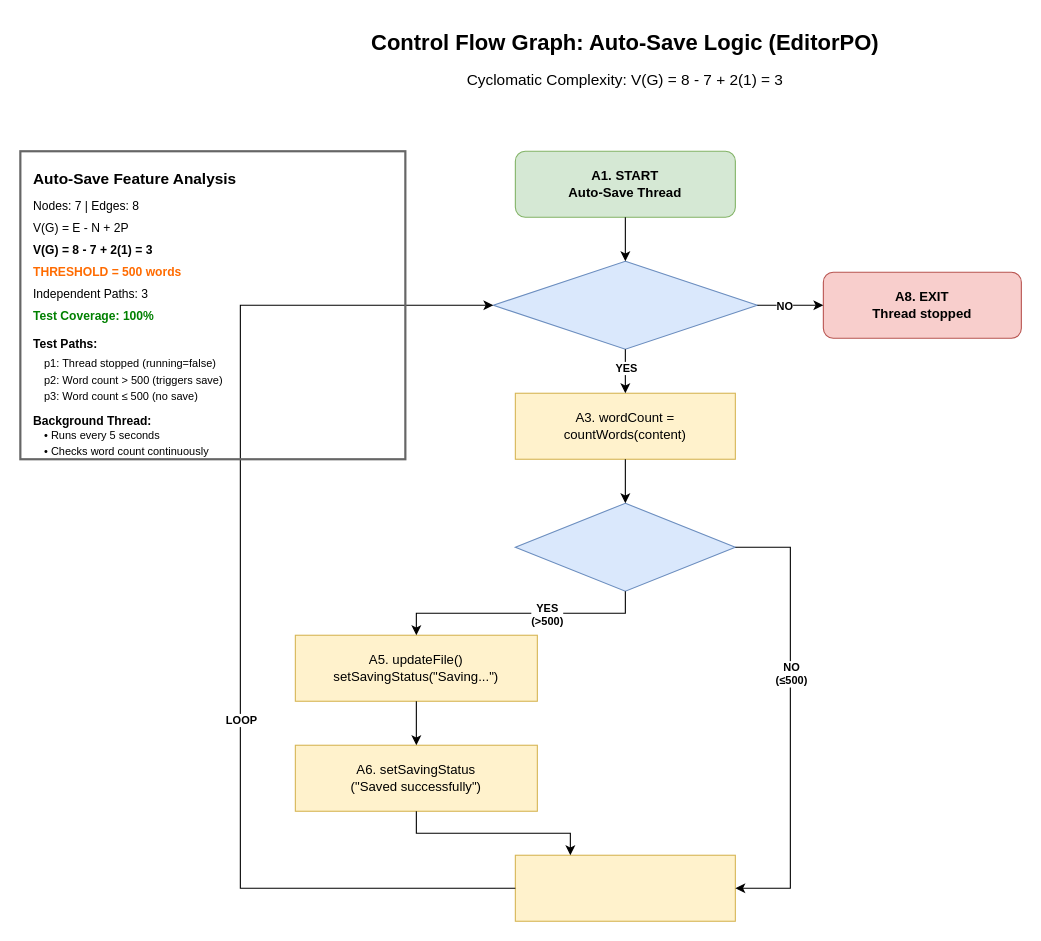
This 1041x941 diagram has some shape labels left out. Here are the shapes that lost their labels. From the top down, the box of each, then its label:
(492, 260, 757, 349): A2. autoSaveRunning == true?
(514, 502, 735, 591): A4. wordCount > 500?
(514, 854, 735, 921): A7. Thread.sleep(5000) Loop back
